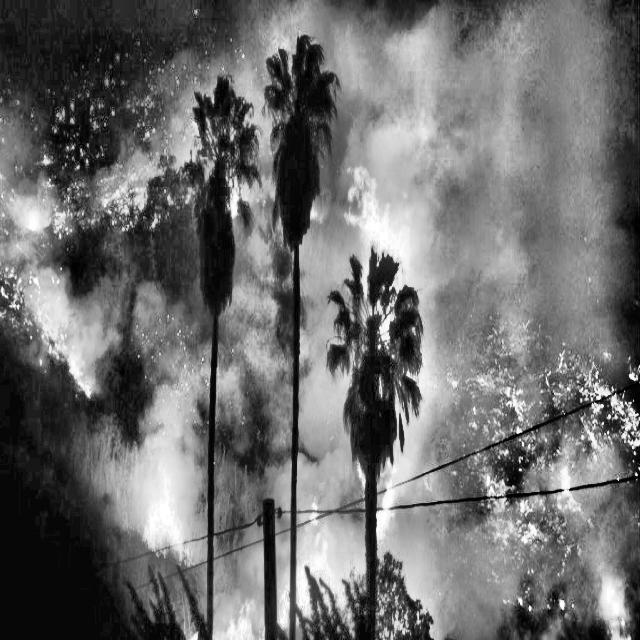fire: (472, 234, 635, 640), (233, 439, 420, 640), (308, 120, 445, 346), (6, 235, 102, 441), (130, 422, 194, 585), (220, 183, 246, 254)
